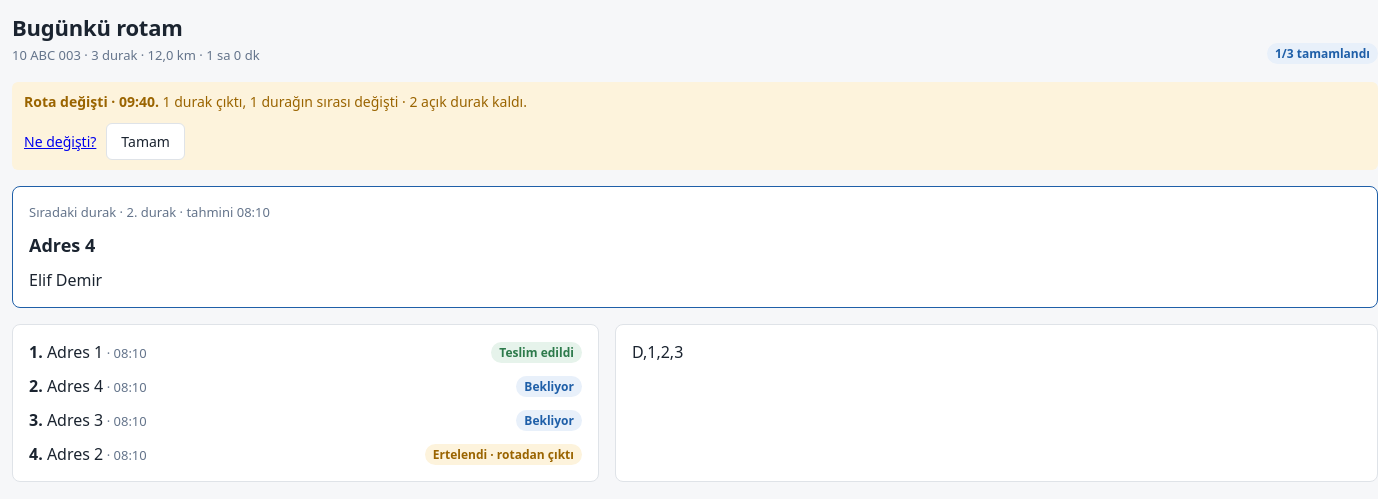
Test case: courier screens › route changes on the route screen (K5) › should say what changed until the courier acknowledges it
Expected: the text "Rota değişti · 09:40" shows "1 durak çıktı, 1 durağın sırası değişti · 2 açık durak kaldı.", [163,92,527,111]
Click the button "Tamam". click: point(146, 142)
box: [106,123,185,160]
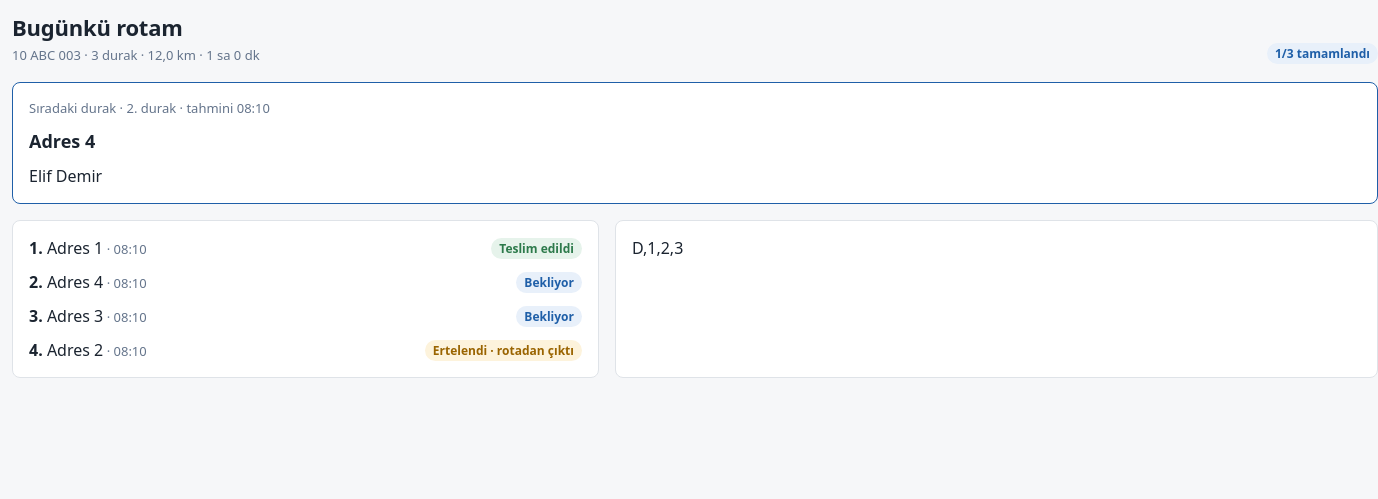
Now the text "Rota değişti" is gone
